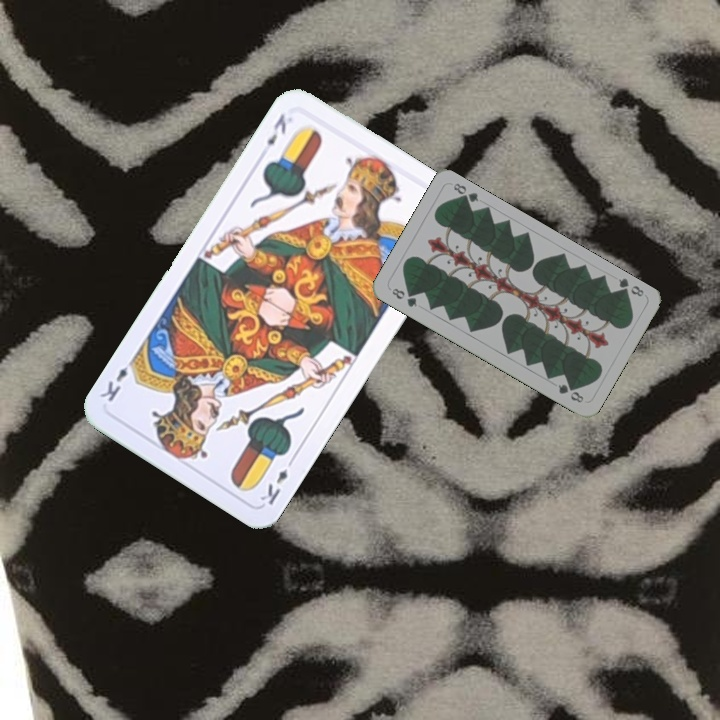EK: (256, 453, 298, 508), (262, 109, 289, 149)
G8: (387, 284, 420, 310), (614, 274, 647, 299)
